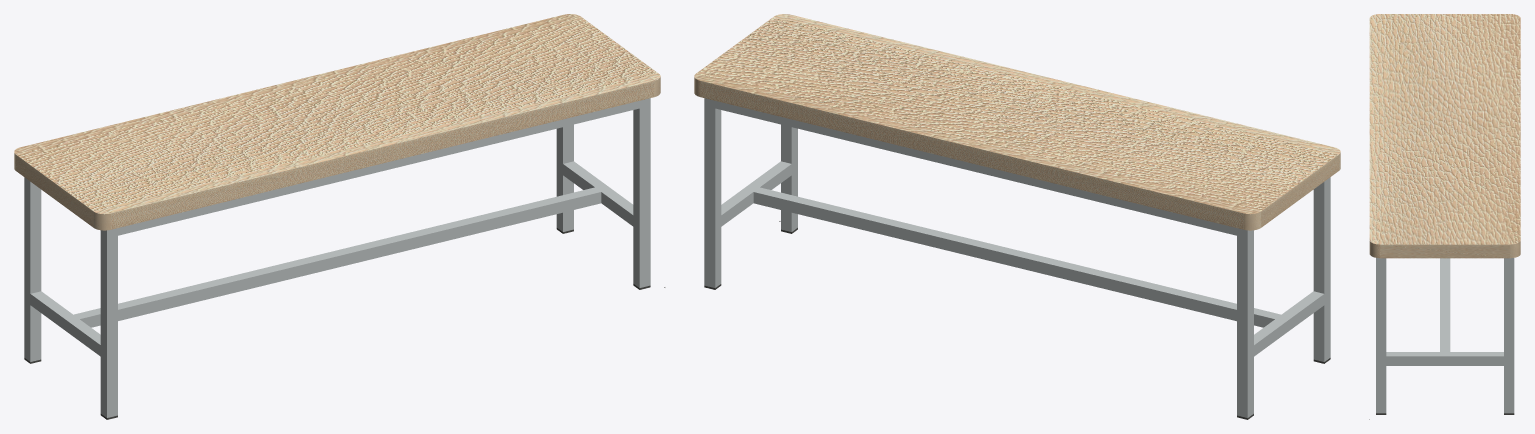
The model's file is banketka_na_metallokarkase_polumjagkaja.glb.
The picture shows the model from 3 angles, left to right: view 1: azimuth 30°, elevation 25°; view 2: azimuth 150°, elevation 25°; view 3: azimuth 270°, elevation 25°; orthographic projection. The views are drawn at different scales.
Visible parts, largest first — view 1: Shape_IndexedFaceSet.027_NON, Shape_IndexedFaceSet.019_NON, Shape_IndexedFaceSet.010_NON, Shape_IndexedFaceSet.012_NON, Shape_IndexedFaceSet.009_NON, Shape_IndexedFaceSet.004_NON, Shape_IndexedFaceSet.008_NON, Shape_IndexedFaceSet.007_NON, Shape_IndexedFaceSet.006_NON, Shape_IndexedFaceSet.005_NON, Shape_IndexedFaceSet.025_NON; view 2: Shape_IndexedFaceSet.027_NON, Shape_IndexedFaceSet.023_NON, Shape_IndexedFaceSet.010_NON, Shape_IndexedFaceSet.011_NON, Shape_IndexedFaceSet.005_NON, Shape_IndexedFaceSet.008_NON, Shape_IndexedFaceSet.009_NON, Shape_IndexedFaceSet.007_NON, Shape_IndexedFaceSet.006_NON, Shape_IndexedFaceSet.025_NON, Shape_IndexedFaceSet.004_NON; view 3: Shape_IndexedFaceSet.027_NON, Shape_IndexedFaceSet.021_NON, Shape_IndexedFaceSet.004_NON, Shape_IndexedFaceSet.005_NON, Shape_IndexedFaceSet.006_NON, Shape_IndexedFaceSet.010_NON, Shape_IndexedFaceSet.020_NON, Shape_IndexedFaceSet.022_NON.
Part boxes in pixels (<box>): Shape_IndexedFaceSet.027_NON: <box>14,14,660,214</box>; Shape_IndexedFaceSet.019_NON: <box>110,81,654,229</box>; Shape_IndexedFaceSet.010_NON: <box>74,187,601,327</box>; Shape_IndexedFaceSet.012_NON: <box>118,101,639,235</box>; Shape_IndexedFaceSet.009_NON: <box>100,228,117,417</box>; Shape_IndexedFaceSet.004_NON: <box>633,98,650,287</box>; Shape_IndexedFaceSet.008_NON: <box>24,177,41,361</box>; Shape_IndexedFaceSet.007_NON: <box>30,291,100,356</box>; Shape_IndexedFaceSet.006_NON: <box>563,161,633,226</box>; Shape_IndexedFaceSet.005_NON: <box>556,124,573,231</box>; Shape_IndexedFaceSet.025_NON: <box>16,155,93,227</box>; Shape_IndexedFaceSet.027_NON: <box>694,14,1340,214</box>; Shape_IndexedFaceSet.023_NON: <box>700,81,1243,229</box>; Shape_IndexedFaceSet.010_NON: <box>753,187,1280,327</box>; Shape_IndexedFaceSet.011_NON: <box>715,101,1236,235</box>; Shape_IndexedFaceSet.005_NON: <box>704,98,721,287</box>; Shape_IndexedFaceSet.008_NON: <box>1237,228,1253,417</box>; Shape_IndexedFaceSet.009_NON: <box>1313,177,1330,361</box>; Shape_IndexedFaceSet.007_NON: <box>1254,291,1324,356</box>; Shape_IndexedFaceSet.006_NON: <box>721,161,791,226</box>; Shape_IndexedFaceSet.025_NON: <box>1261,155,1338,227</box>; Shape_IndexedFaceSet.004_NON: <box>781,124,797,231</box>; Shape_IndexedFaceSet.027_NON: <box>1369,14,1520,244</box>; Shape_IndexedFaceSet.021_NON: <box>1380,244,1510,258</box>; Shape_IndexedFaceSet.004_NON: <box>1376,258,1386,413</box>; Shape_IndexedFaceSet.005_NON: <box>1504,258,1514,413</box>; Shape_IndexedFaceSet.006_NON: <box>1386,352,1503,365</box>; Shape_IndexedFaceSet.010_NON: <box>1440,258,1450,351</box>; Shape_IndexedFaceSet.020_NON: <box>1369,241,1380,258</box>; Shape_IndexedFaceSet.022_NON: <box>1510,241,1520,258</box>.
Size of the model in its own units: 1301 by 461 by 361.
29 materials, 28 textured.
